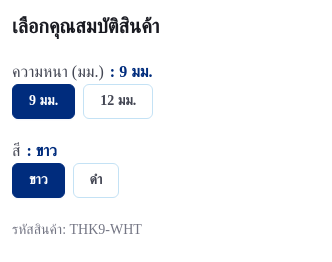
Scenario: VariantSelector uncheck / toggle behavior › handles multi-group unchecking and re-selection correctly
Expected: the text "รหัสสินค้า: THK9-WHT" is shown, [12,222,142,237]
Note: Uncheck "ขาว" in color group
Click the button "ขาว".
click(38, 180)  # box [12,163,65,198]
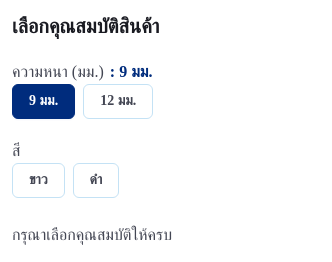
Expected: the text "กรุณาเลือกคุณสมบัติให้ครบ" is shown, [12,226,172,243]
Note: Select "ดำ" in color group
Click the button "ดำ".
click(96, 180)  # box [73,163,119,198]
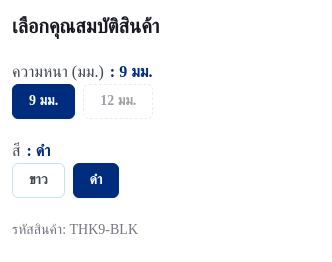
Expected: the text "รหัสสินค้า: THK9-BLK" is shown, [12,222,138,237]
